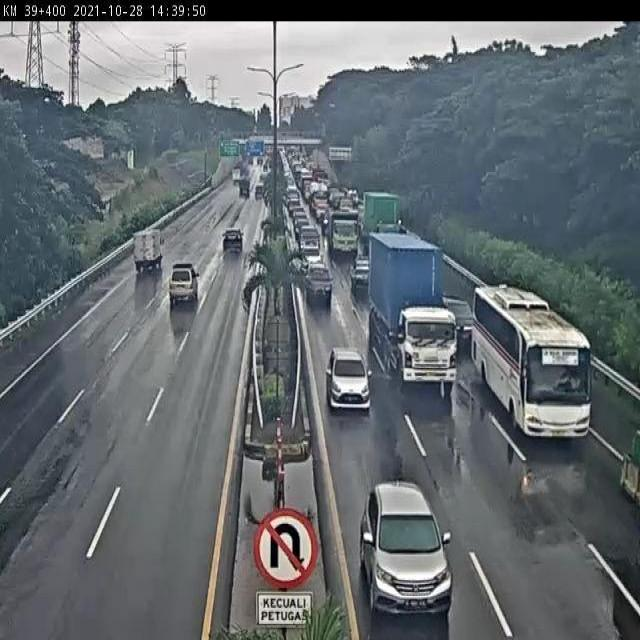big truck: (359, 232, 462, 397)
